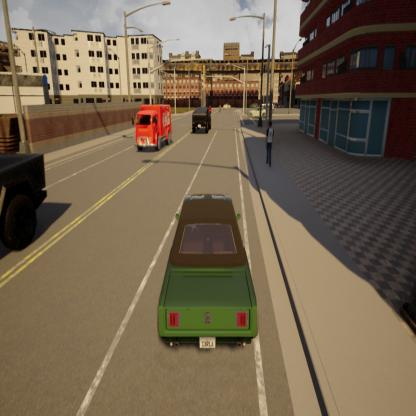Cars: (159, 195, 256, 349), (0, 148, 48, 253), (135, 104, 172, 152), (191, 106, 212, 135), (247, 103, 267, 121), (256, 102, 275, 120), (221, 102, 232, 111), (206, 102, 212, 113)
Pedestrian: (266, 119, 274, 166), (216, 102, 222, 116)
